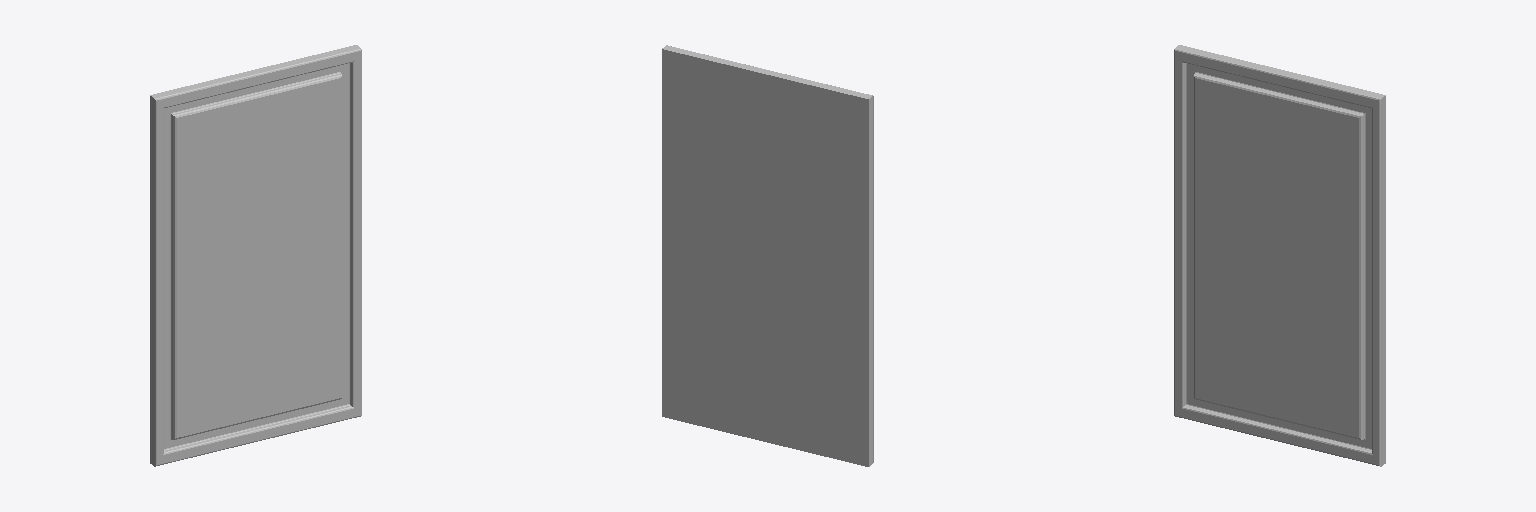
The picture shows the model from 3 angles: view 1: azimuth 30°, elevation 25°; view 2: azimuth 150°, elevation 25°; view 3: azimuth 330°, elevation 25°; orthographic projection.
Visible parts, largest first — view 1: 平面; view 2: 平面; view 3: 平面.
Part boxes in pixels (x1,y1,x2,y2): 平面: (150, 45, 361, 466); 平面: (662, 45, 873, 466); 平面: (1174, 45, 1385, 466).
Bounding box in the file's own units: 0.5 × 0.85 × 0.024.